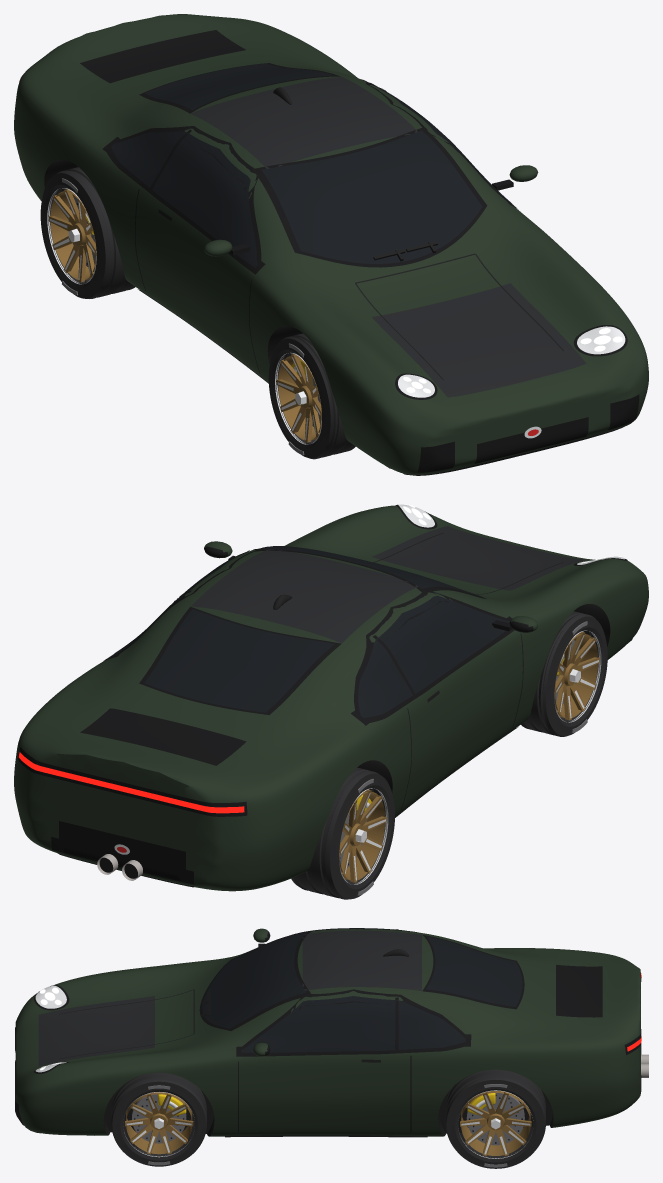
The picture shows the model from 3 angles, top to bottom: view 1: azimuth 30°, elevation 25°; view 2: azimuth 150°, elevation 25°; view 3: azimuth 270°, elevation 25°; orthographic projection. The views are drawn at different scales.
Parts seen in each view (by area): view 1: Body, Wheel_RR, Wheel_FR; view 2: Body, Wheel_RR, Wheel_FR; view 3: Body, Wheel_RL, Wheel_FL.
Part boxes in pixels (x1,y1,x2,y2): Body: (14, 14, 648, 475); Wheel_RR: (40, 167, 135, 298); Wheel_FR: (268, 333, 355, 459); Body: (14, 504, 648, 891); Wheel_RR: (291, 767, 394, 899); Wheel_FR: (521, 611, 607, 736); Body: (15, 928, 648, 1137); Wheel_RL: (445, 1069, 545, 1168); Wheel_FL: (111, 1072, 206, 1166).
Size of the model in its own units: 2.14 by 1.35 by 4.64.
